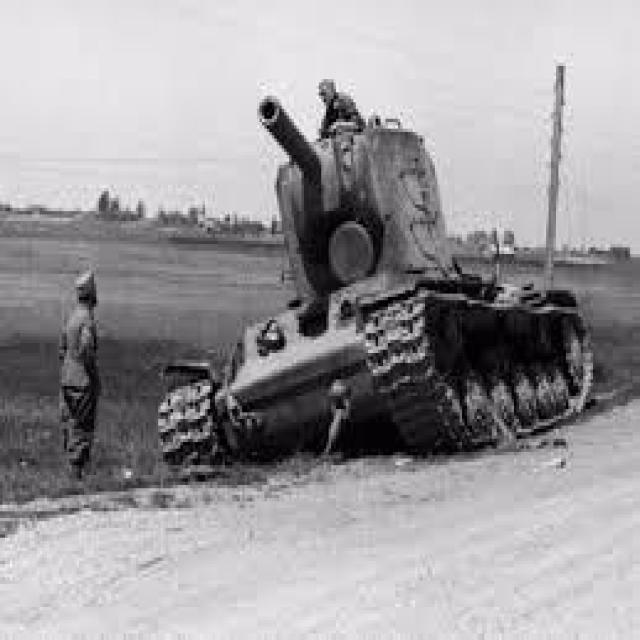Tanks: (142, 82, 604, 462)
